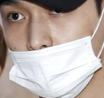mask_weared_incorrect: (1, 1, 104, 98)
